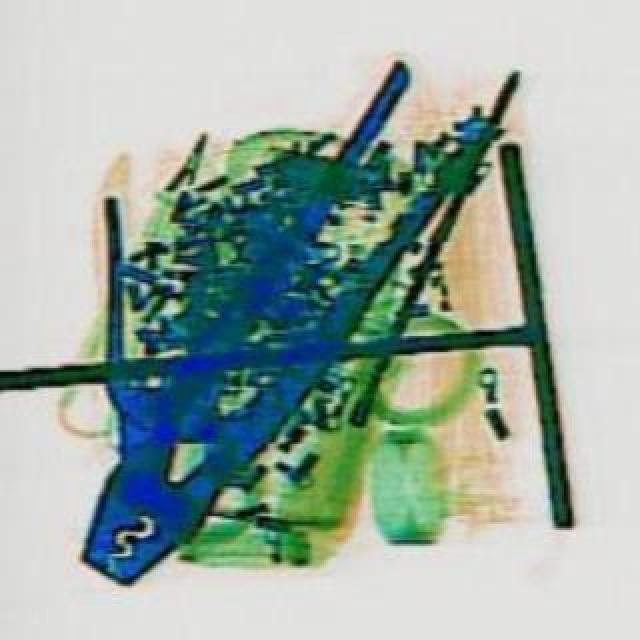wrench: (38, 54, 504, 602)
